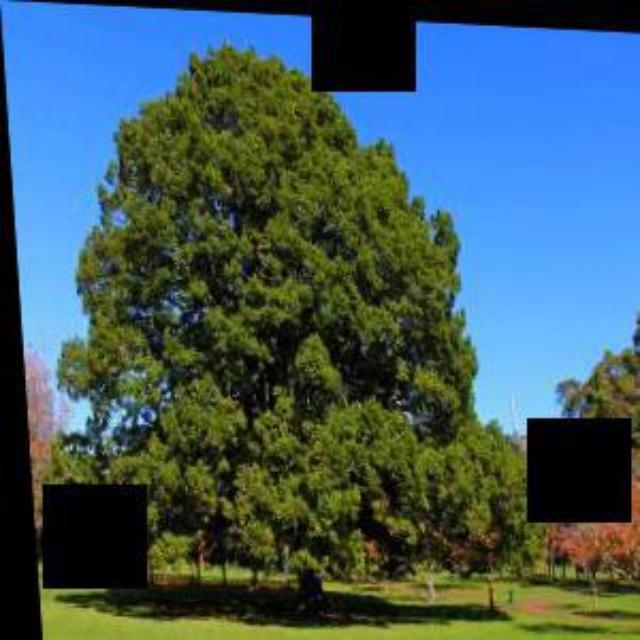tree: (24, 28, 542, 620)
